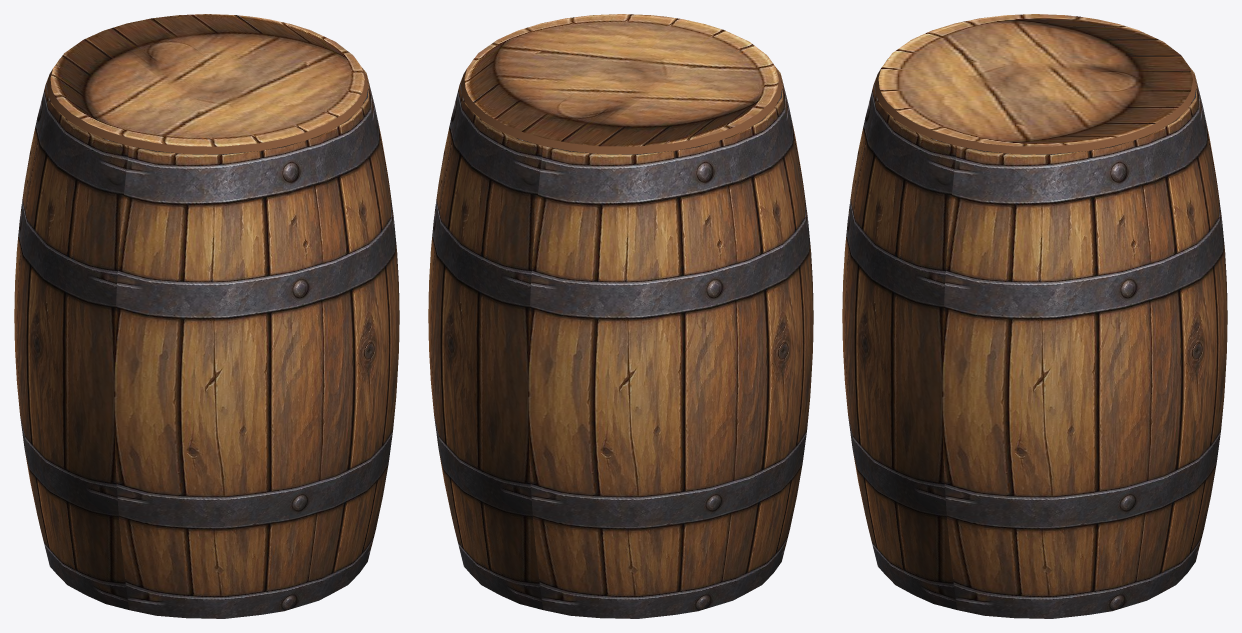
The model's file is barrel.glb.
3 views of the same model, side by side, from view 1: azimuth 30°, elevation 25°; view 2: azimuth 150°, elevation 25°; view 3: azimuth 270°, elevation 25° (orthographic).
Visible parts, largest first — view 1: barrel; view 2: barrel; view 3: barrel.
Boxes of the visible parts, x1=… form: barrel: x1=14, y1=14, x2=399, y2=618; barrel: x1=428, y1=14, x2=813, y2=618; barrel: x1=842, y1=14, x2=1227, y2=618.
Bounding box in the file's own units: 0.6783 × 0.912 × 0.6771.
Materials: 1 (1 with a texture image).
